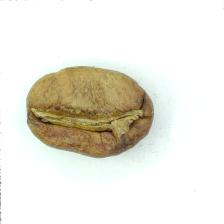NG: (30, 69, 151, 145)
